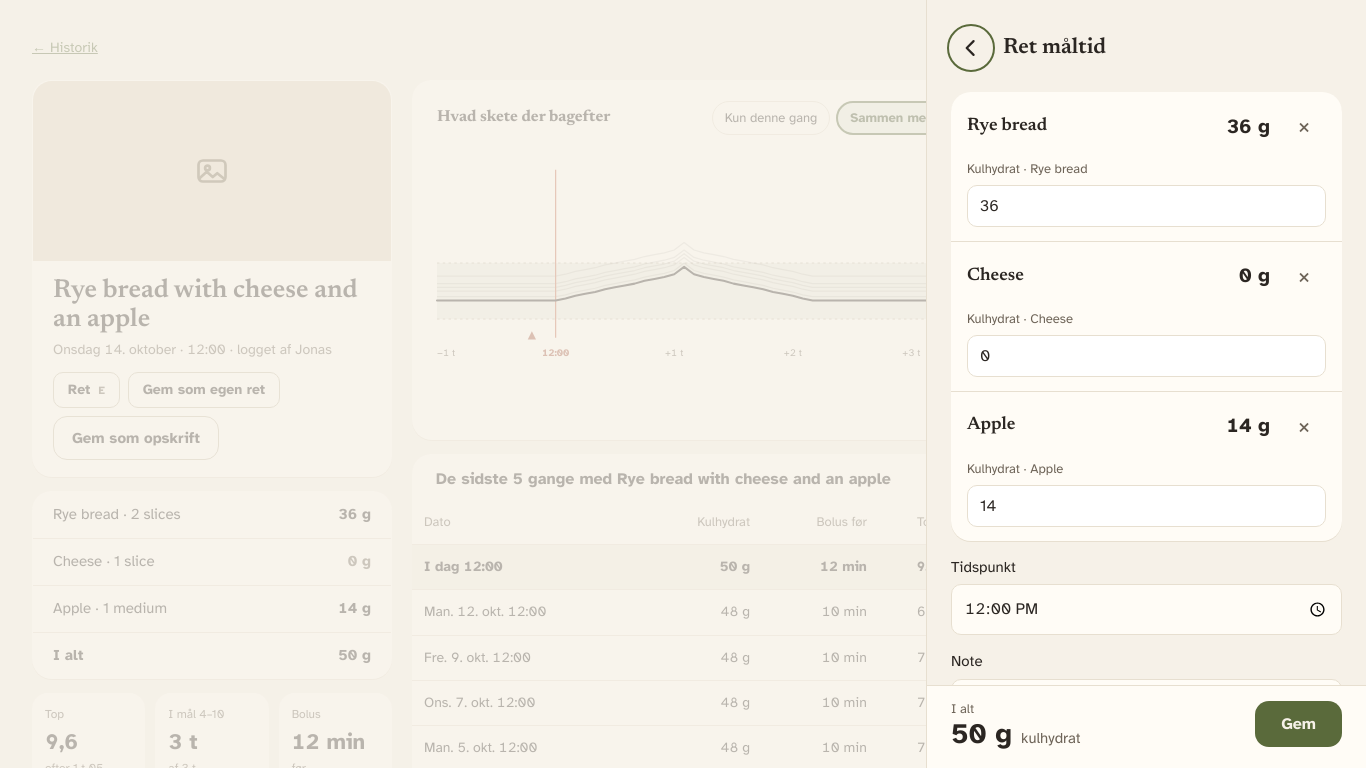
Test: Måltid · opened on ?edit=1 › desktop: arrives with the sheet open, and closing it drops the parameter without a reload
Expected: the dialog "Ret måltid" is shown, [926,0,1365,767]
Click the button named "Tilbage".
click(971, 48)  # box [951,28,991,68]
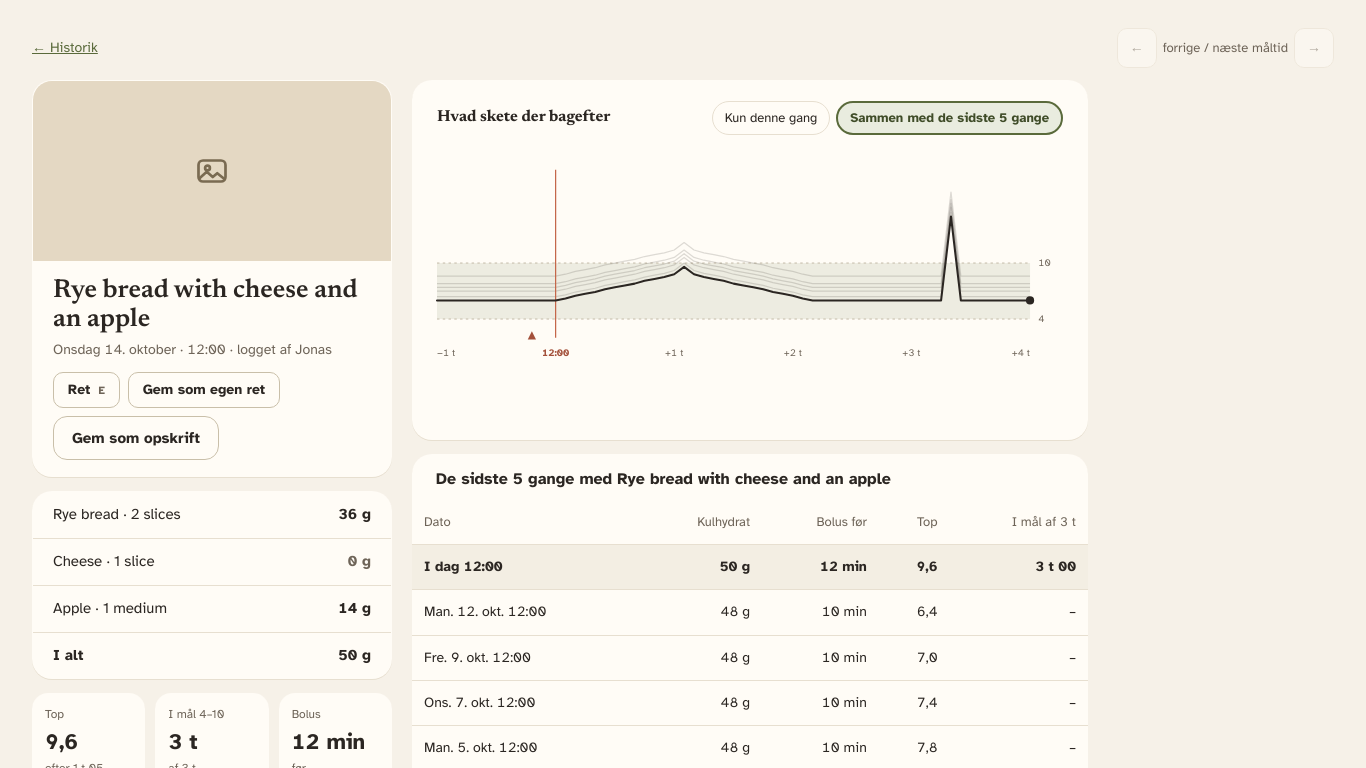
Expected: the dialog is gone
# Opening it again from the header leaves the address alone.
Click the button "Ret E".
click(86, 390)  # box [53,372,120,408]
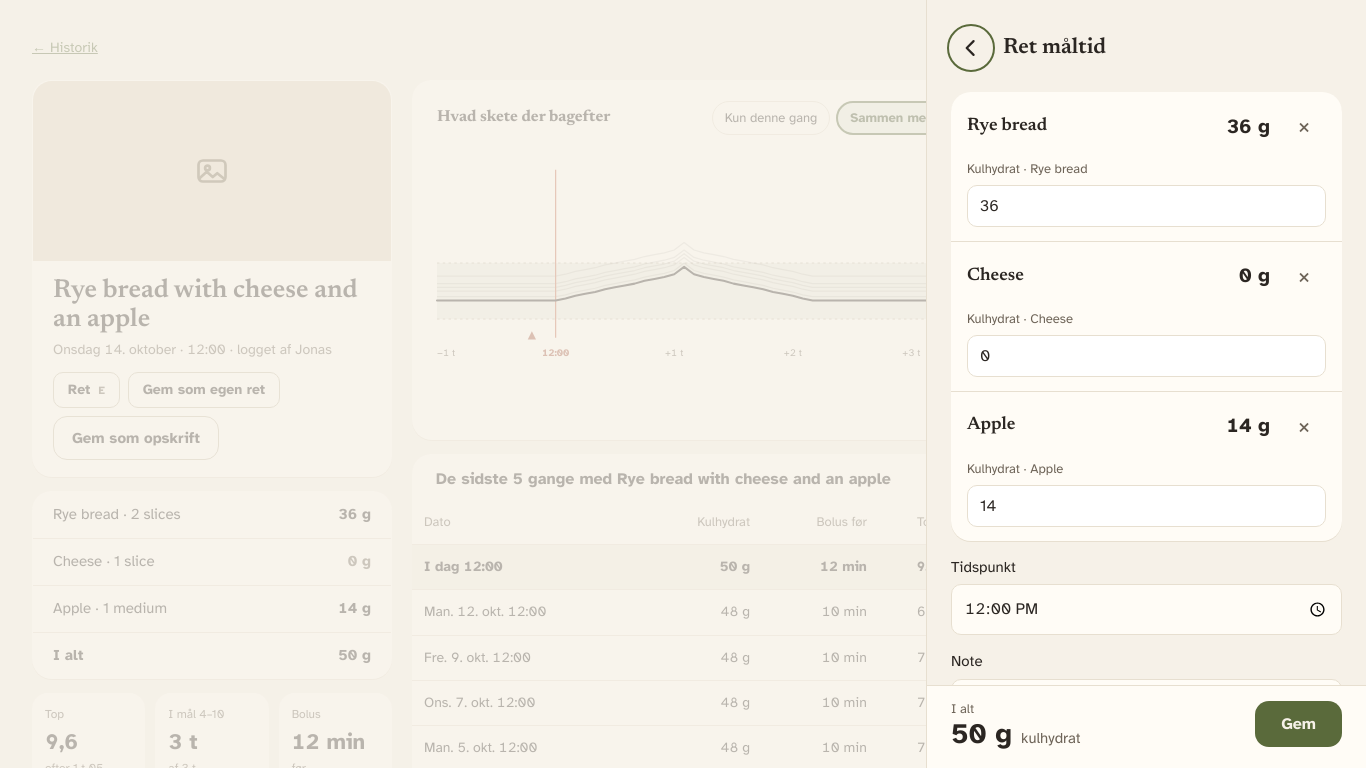
Expected: the dialog "Ret måltid" is shown, [926,0,1365,767]
